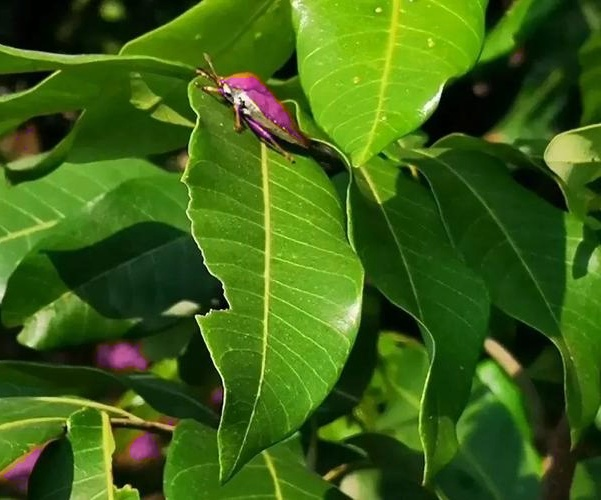Stink_Bug: (202, 53, 307, 149)
